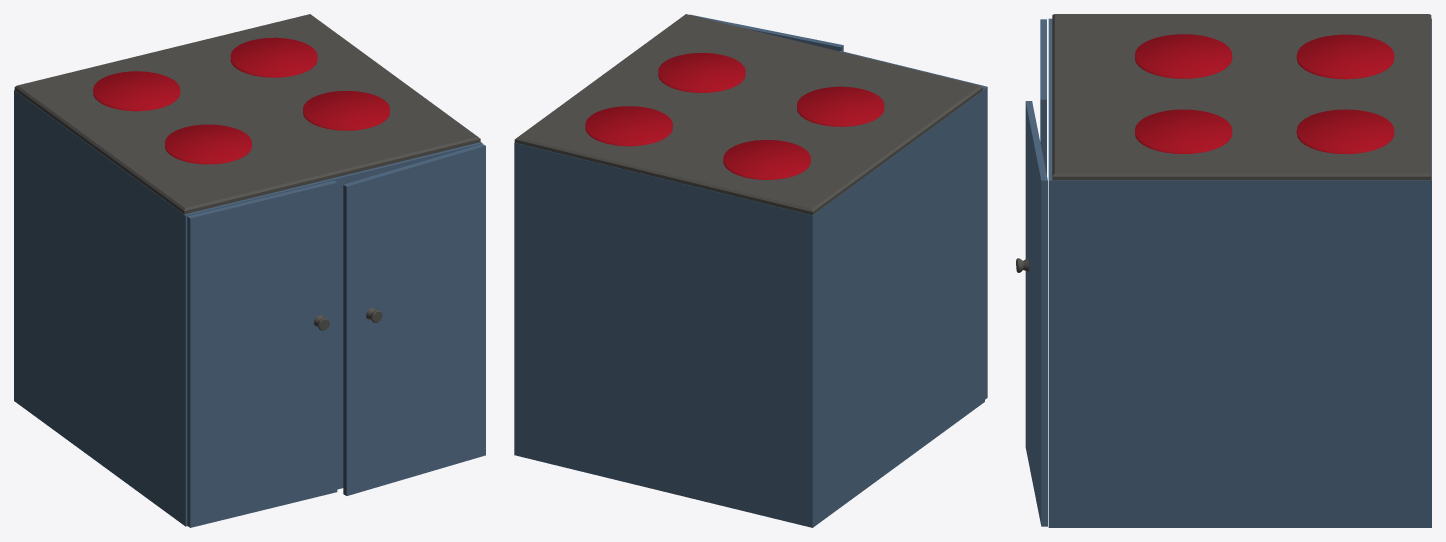
Rendered from stove.fbx.
3 views of the same model, side by side, from view 1: azimuth 30°, elevation 25°; view 2: azimuth 150°, elevation 25°; view 3: azimuth 270°, elevation 25° (orthographic). The views are drawn at different scales.
Visible parts, largest first — view 1: Cube.007, DOOR.014, DOOR.015, Plane.005, Circle.001, Circle, Circle.003, Circle.002; view 2: Cube.007, Plane.005, Circle.001, Circle.003, Circle.002, Circle, DOOR.014, DOOR.015; view 3: Cube.007, Plane.005, DOOR.015, Circle.001, Circle, Circle.002, Circle.003, DOOR.014.
Part boxes in pixels (x1,y1,x2,y2): Cube.007: [14, 90, 482, 526]; DOOR.014: [187, 180, 337, 527]; DOOR.015: [343, 144, 485, 495]; Plane.005: [14, 14, 480, 214]; Circle.001: [230, 37, 317, 77]; Circle: [93, 71, 180, 111]; Circle.003: [165, 124, 251, 164]; Circle.002: [303, 91, 389, 130]; Cube.007: [514, 89, 984, 527]; Plane.005: [514, 14, 982, 215]; Circle.001: [585, 106, 672, 146]; Circle.003: [797, 86, 884, 126]; Circle.002: [658, 53, 745, 92]; Circle: [723, 140, 810, 179]; DOOR.014: [839, 51, 987, 399]; DOOR.015: [690, 14, 843, 51]; Cube.007: [1048, 18, 1431, 527]; Plane.005: [1052, 14, 1431, 180]; DOOR.015: [1025, 101, 1047, 526]; Circle.001: [1296, 109, 1394, 154]; Circle: [1296, 34, 1394, 79]; Circle.002: [1135, 109, 1232, 154]; Circle.003: [1135, 34, 1232, 78]; DOOR.014: [1040, 19, 1046, 174].
Size of the model in its own units: 2717 by 2789 by 2947.
